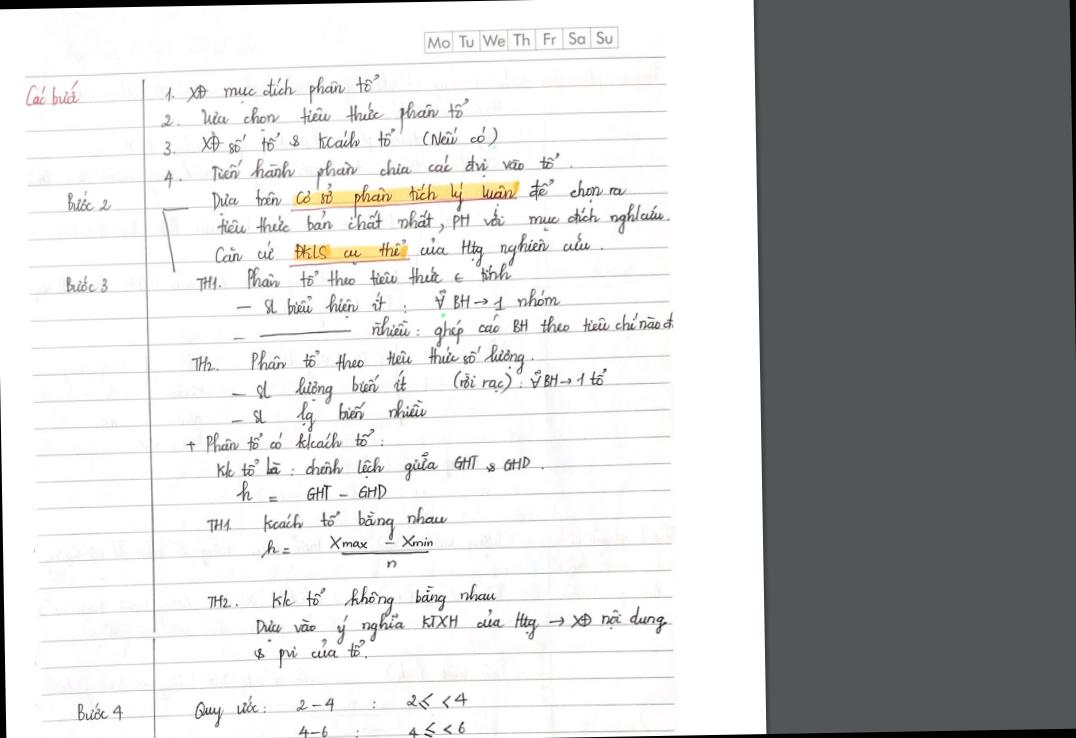text: (213, 200, 674, 244), (206, 175, 632, 221), (253, 603, 670, 646), (212, 230, 593, 275), (207, 150, 563, 193), (370, 307, 678, 349), (213, 448, 532, 487), (200, 96, 476, 139), (236, 286, 564, 322), (246, 342, 528, 381), (198, 124, 501, 156), (268, 580, 500, 618), (241, 261, 516, 292), (161, 71, 383, 108), (226, 396, 428, 435), (257, 531, 438, 574), (260, 504, 451, 542), (183, 425, 378, 456), (227, 370, 410, 402), (451, 365, 610, 395), (233, 478, 389, 508), (425, 28, 616, 52), (252, 637, 367, 671), (190, 694, 260, 730), (23, 78, 82, 110), (404, 690, 470, 716), (64, 187, 111, 216), (75, 698, 125, 725), (404, 718, 468, 738), (63, 272, 110, 296), (293, 696, 338, 714), (188, 351, 219, 376), (192, 275, 224, 295), (204, 515, 234, 535), (204, 592, 234, 612), (160, 168, 184, 192), (296, 722, 330, 738), (158, 112, 180, 130), (160, 139, 179, 158)
